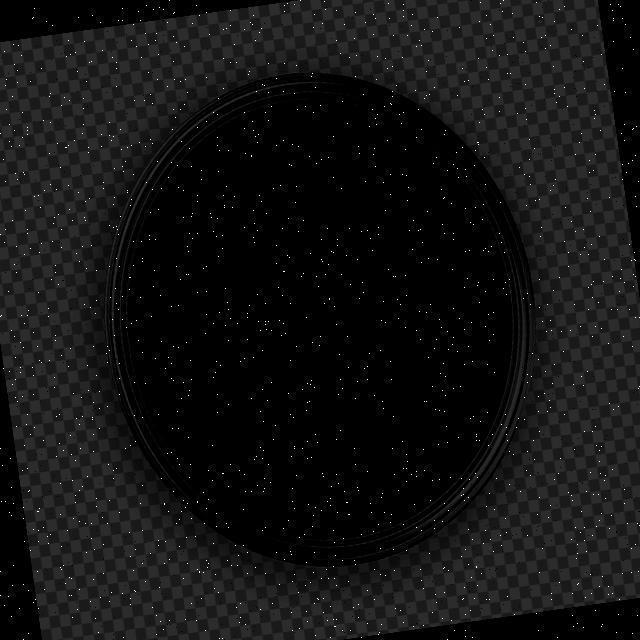Circle: (102, 52, 540, 564)
